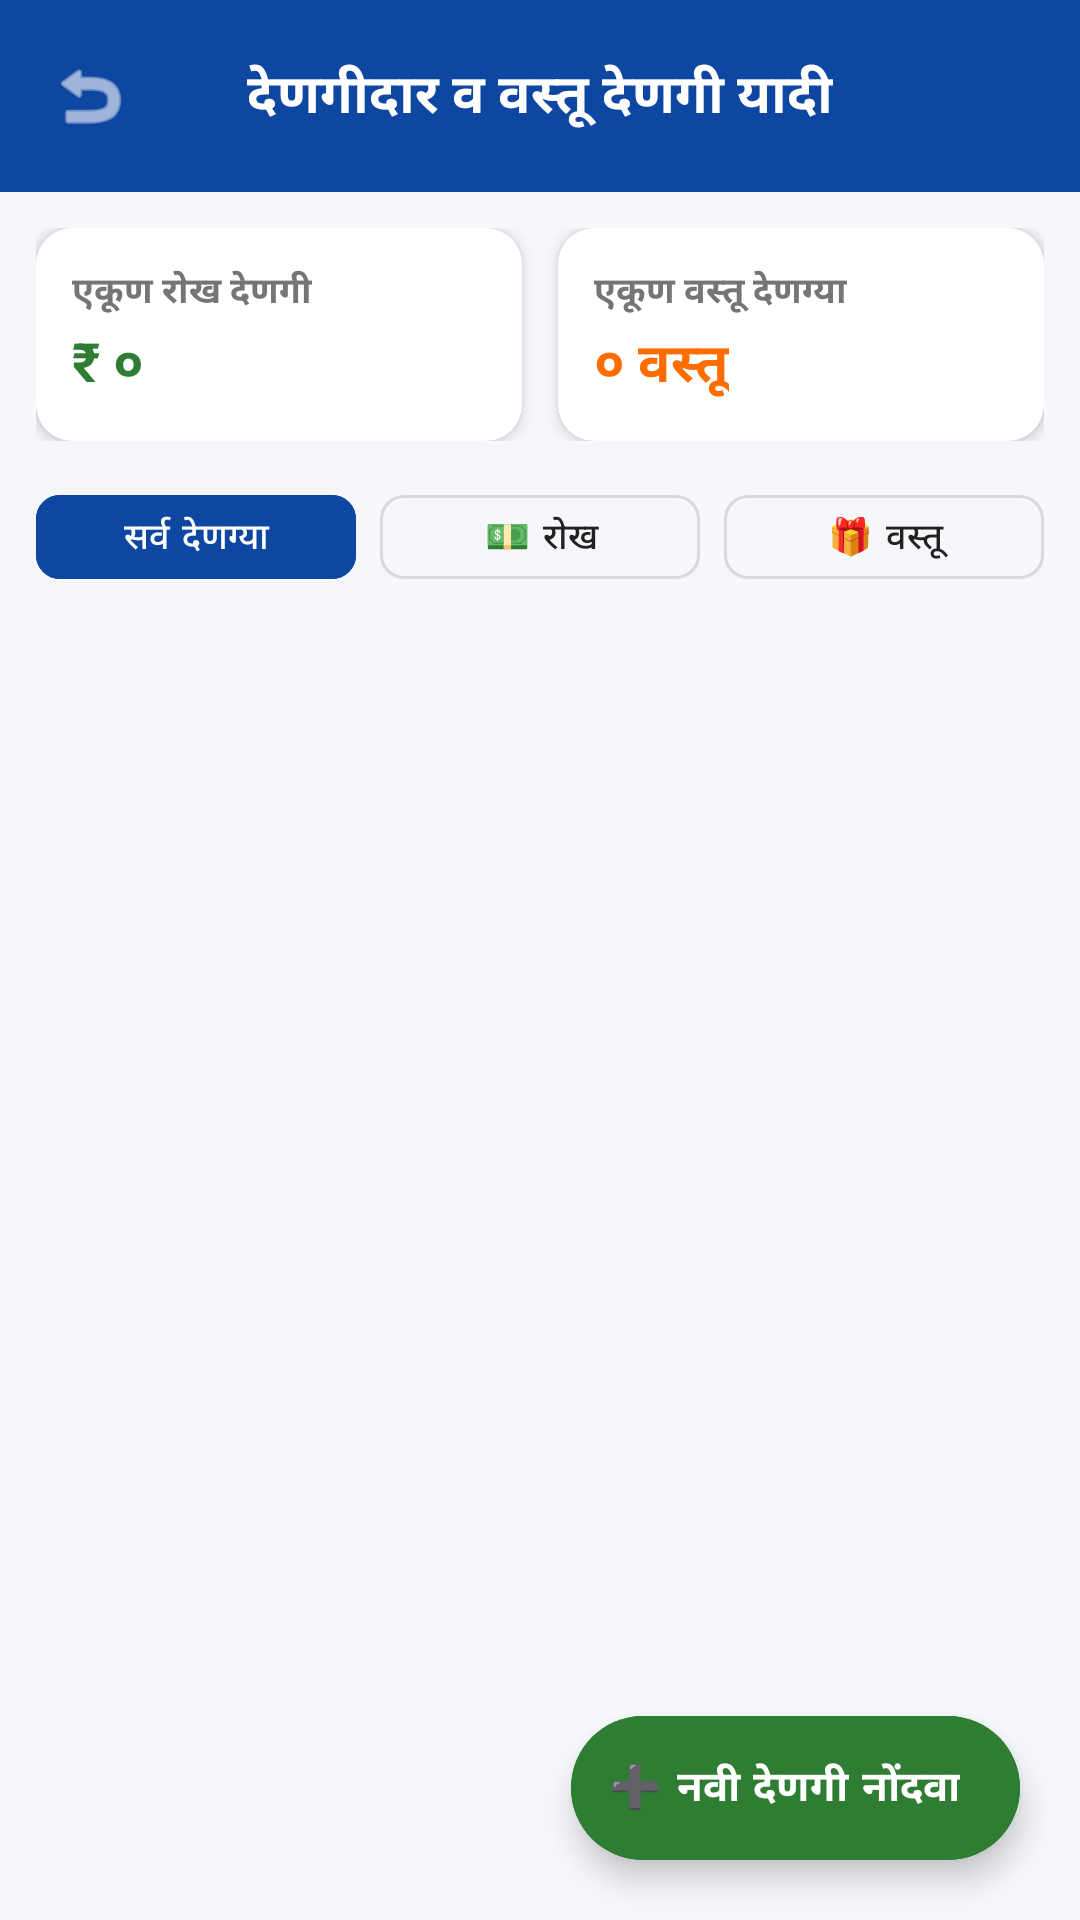

Where icons sit on this 1080px x 1920px app screen, as (x1, y1, x2, y2):
revert: (61, 69, 122, 124)
